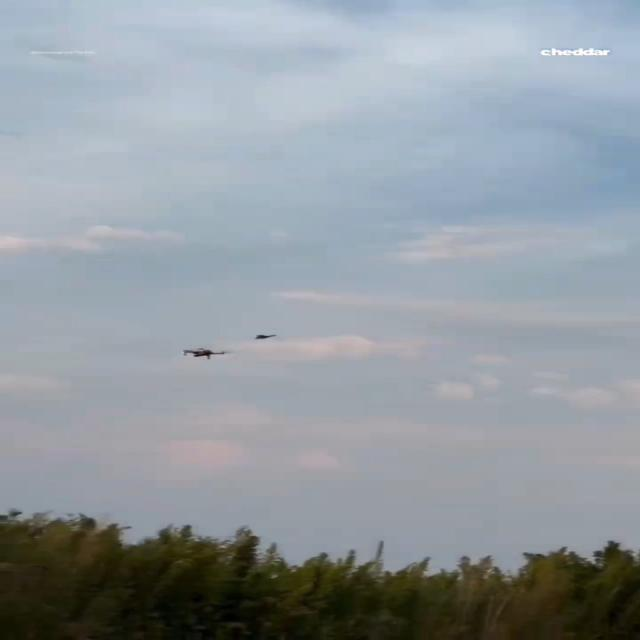bird: (254, 334, 276, 339)
drone: (182, 347, 226, 359)
